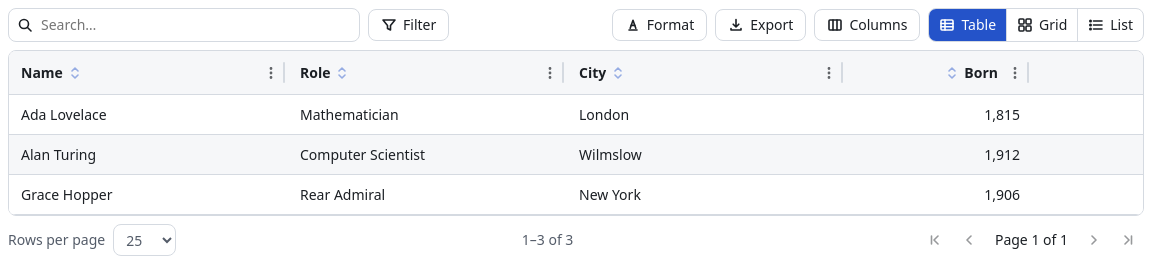
Test: US2: switch between table, grid and list views › grid view shows cards with a title and labelled fields (scenario 1)
Click the radio button labelled "Grid".
click(1042, 25)  # box [1006, 9, 1077, 41]
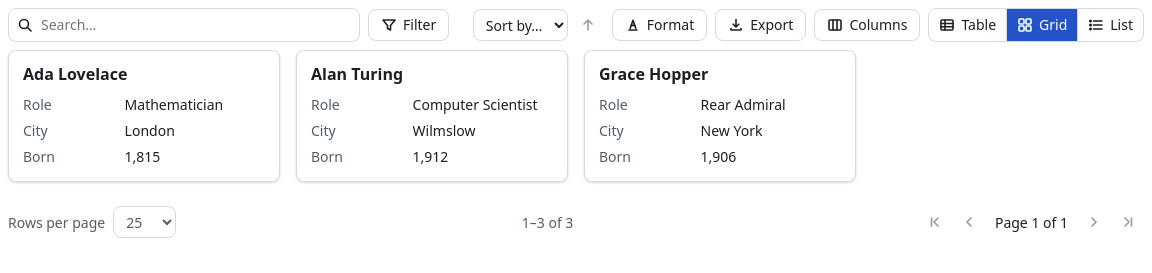
Expected: the element with class "aits-card-title" reads "Ada Lovelace", [23, 63, 127, 85]
Expected: the number of cells with class "aits-card" is 3, [8, 50, 280, 182]; [296, 50, 568, 182]; [584, 50, 856, 182]
Expected: the text "Role" next to "Mathematician" is shown, [23, 95, 52, 114]
